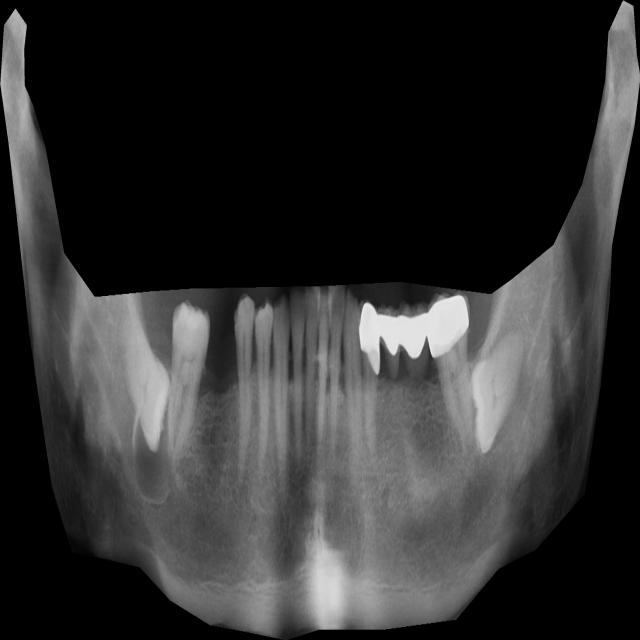mandibula: (0, 0, 640, 640)
